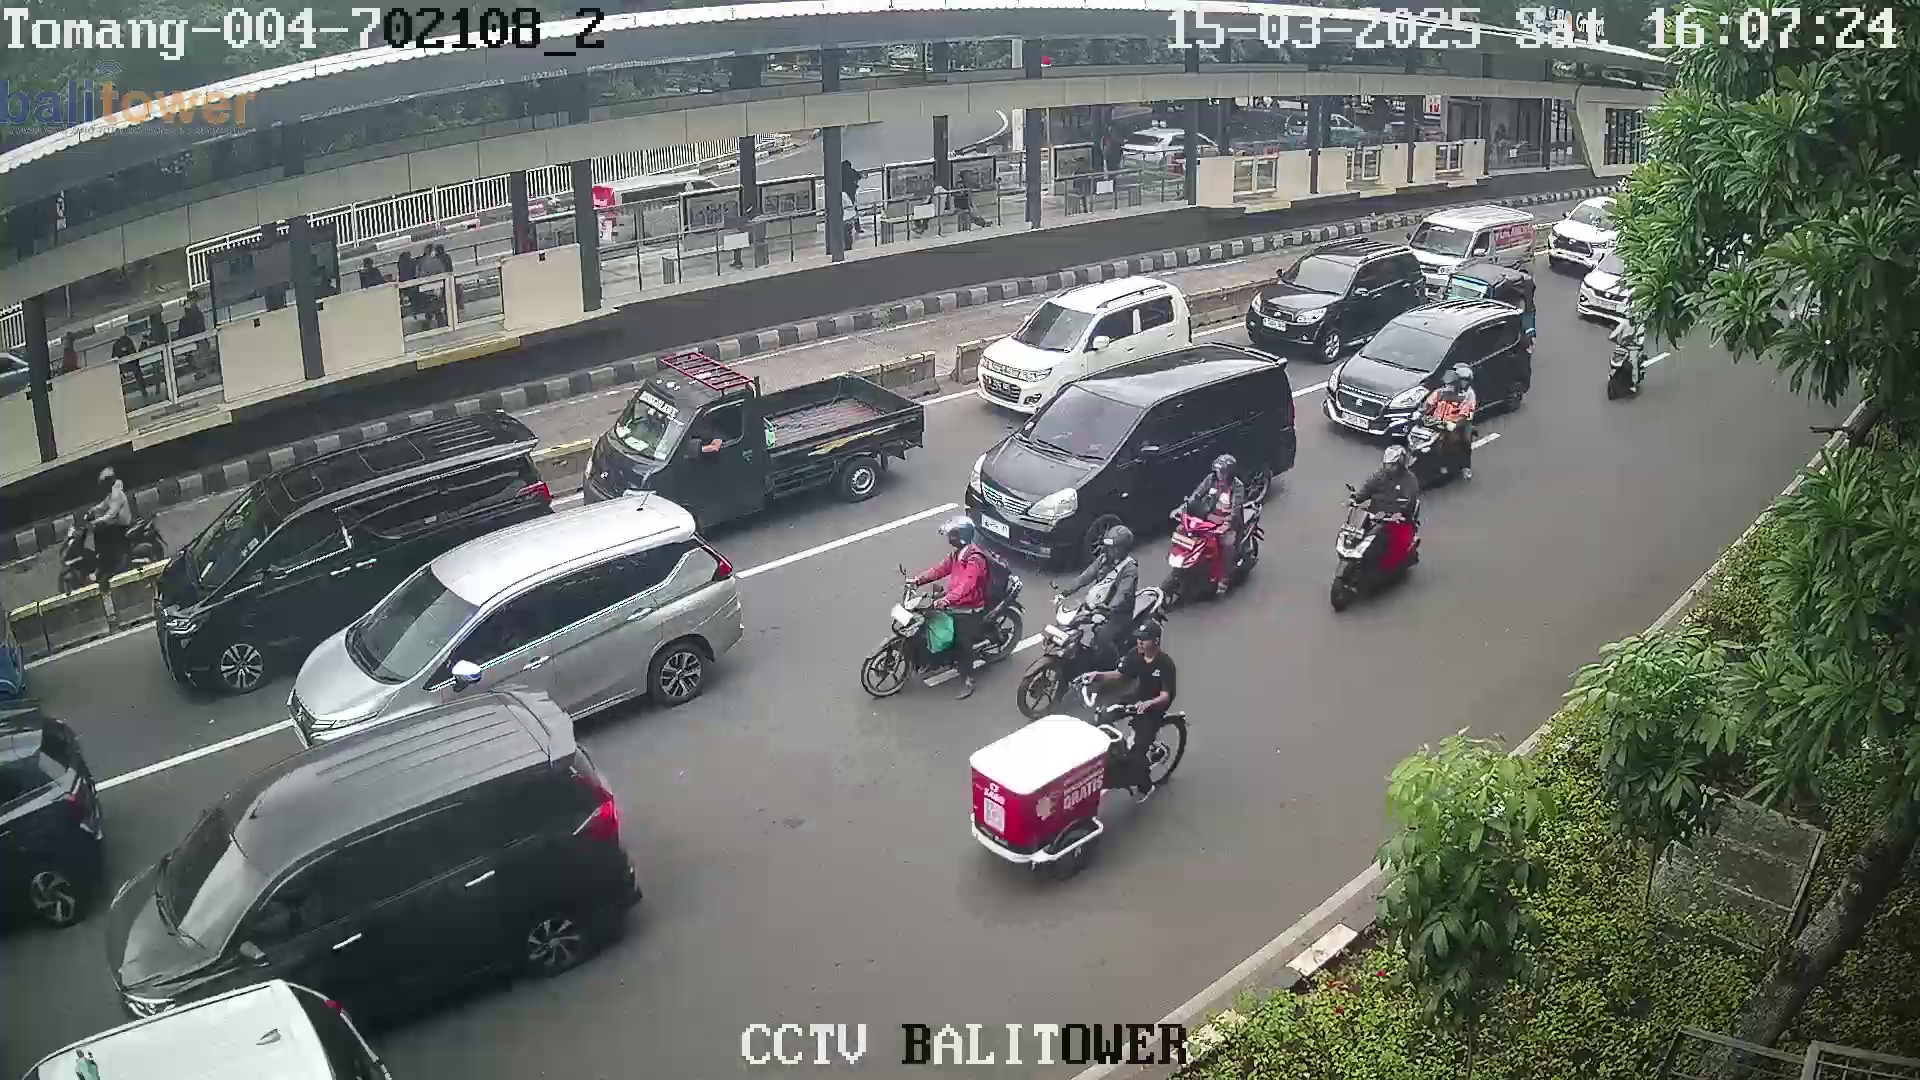half-face helmet: (1082, 518, 1153, 573), (939, 512, 988, 561), (1378, 441, 1417, 496), (1210, 453, 1247, 486), (1439, 365, 1474, 398)
no helmet: (1127, 620, 1174, 671)
